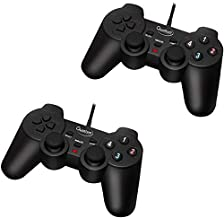gamingconsole: (82, 2, 223, 119), (2, 102, 142, 218)
